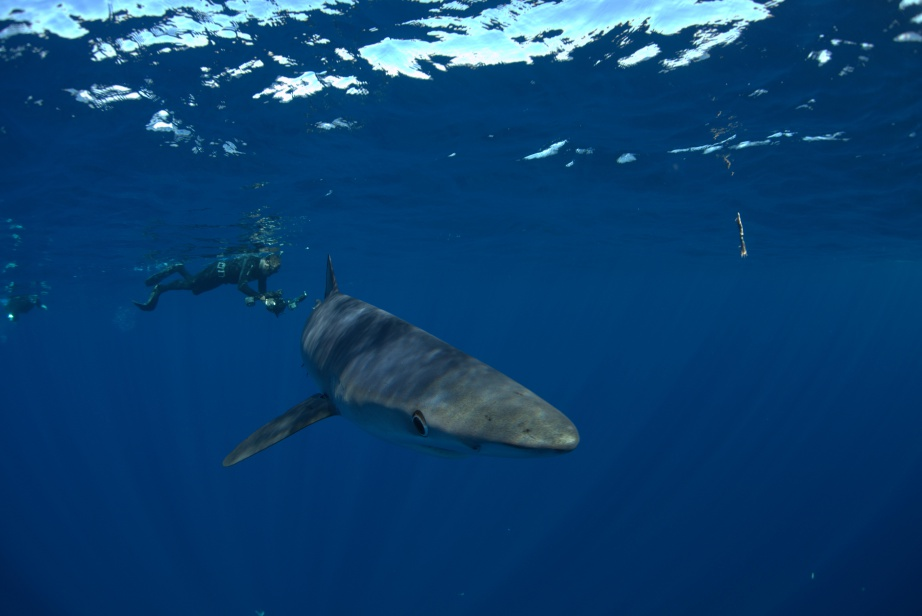Azul: (191, 239, 588, 515)
